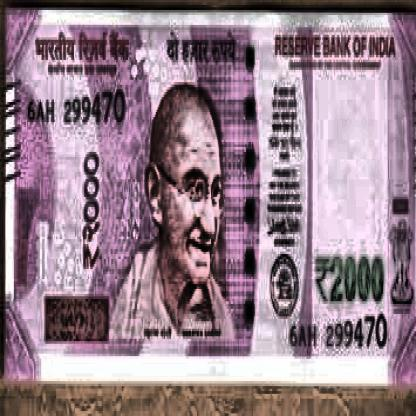Rs2000: (310, 243, 389, 321)
